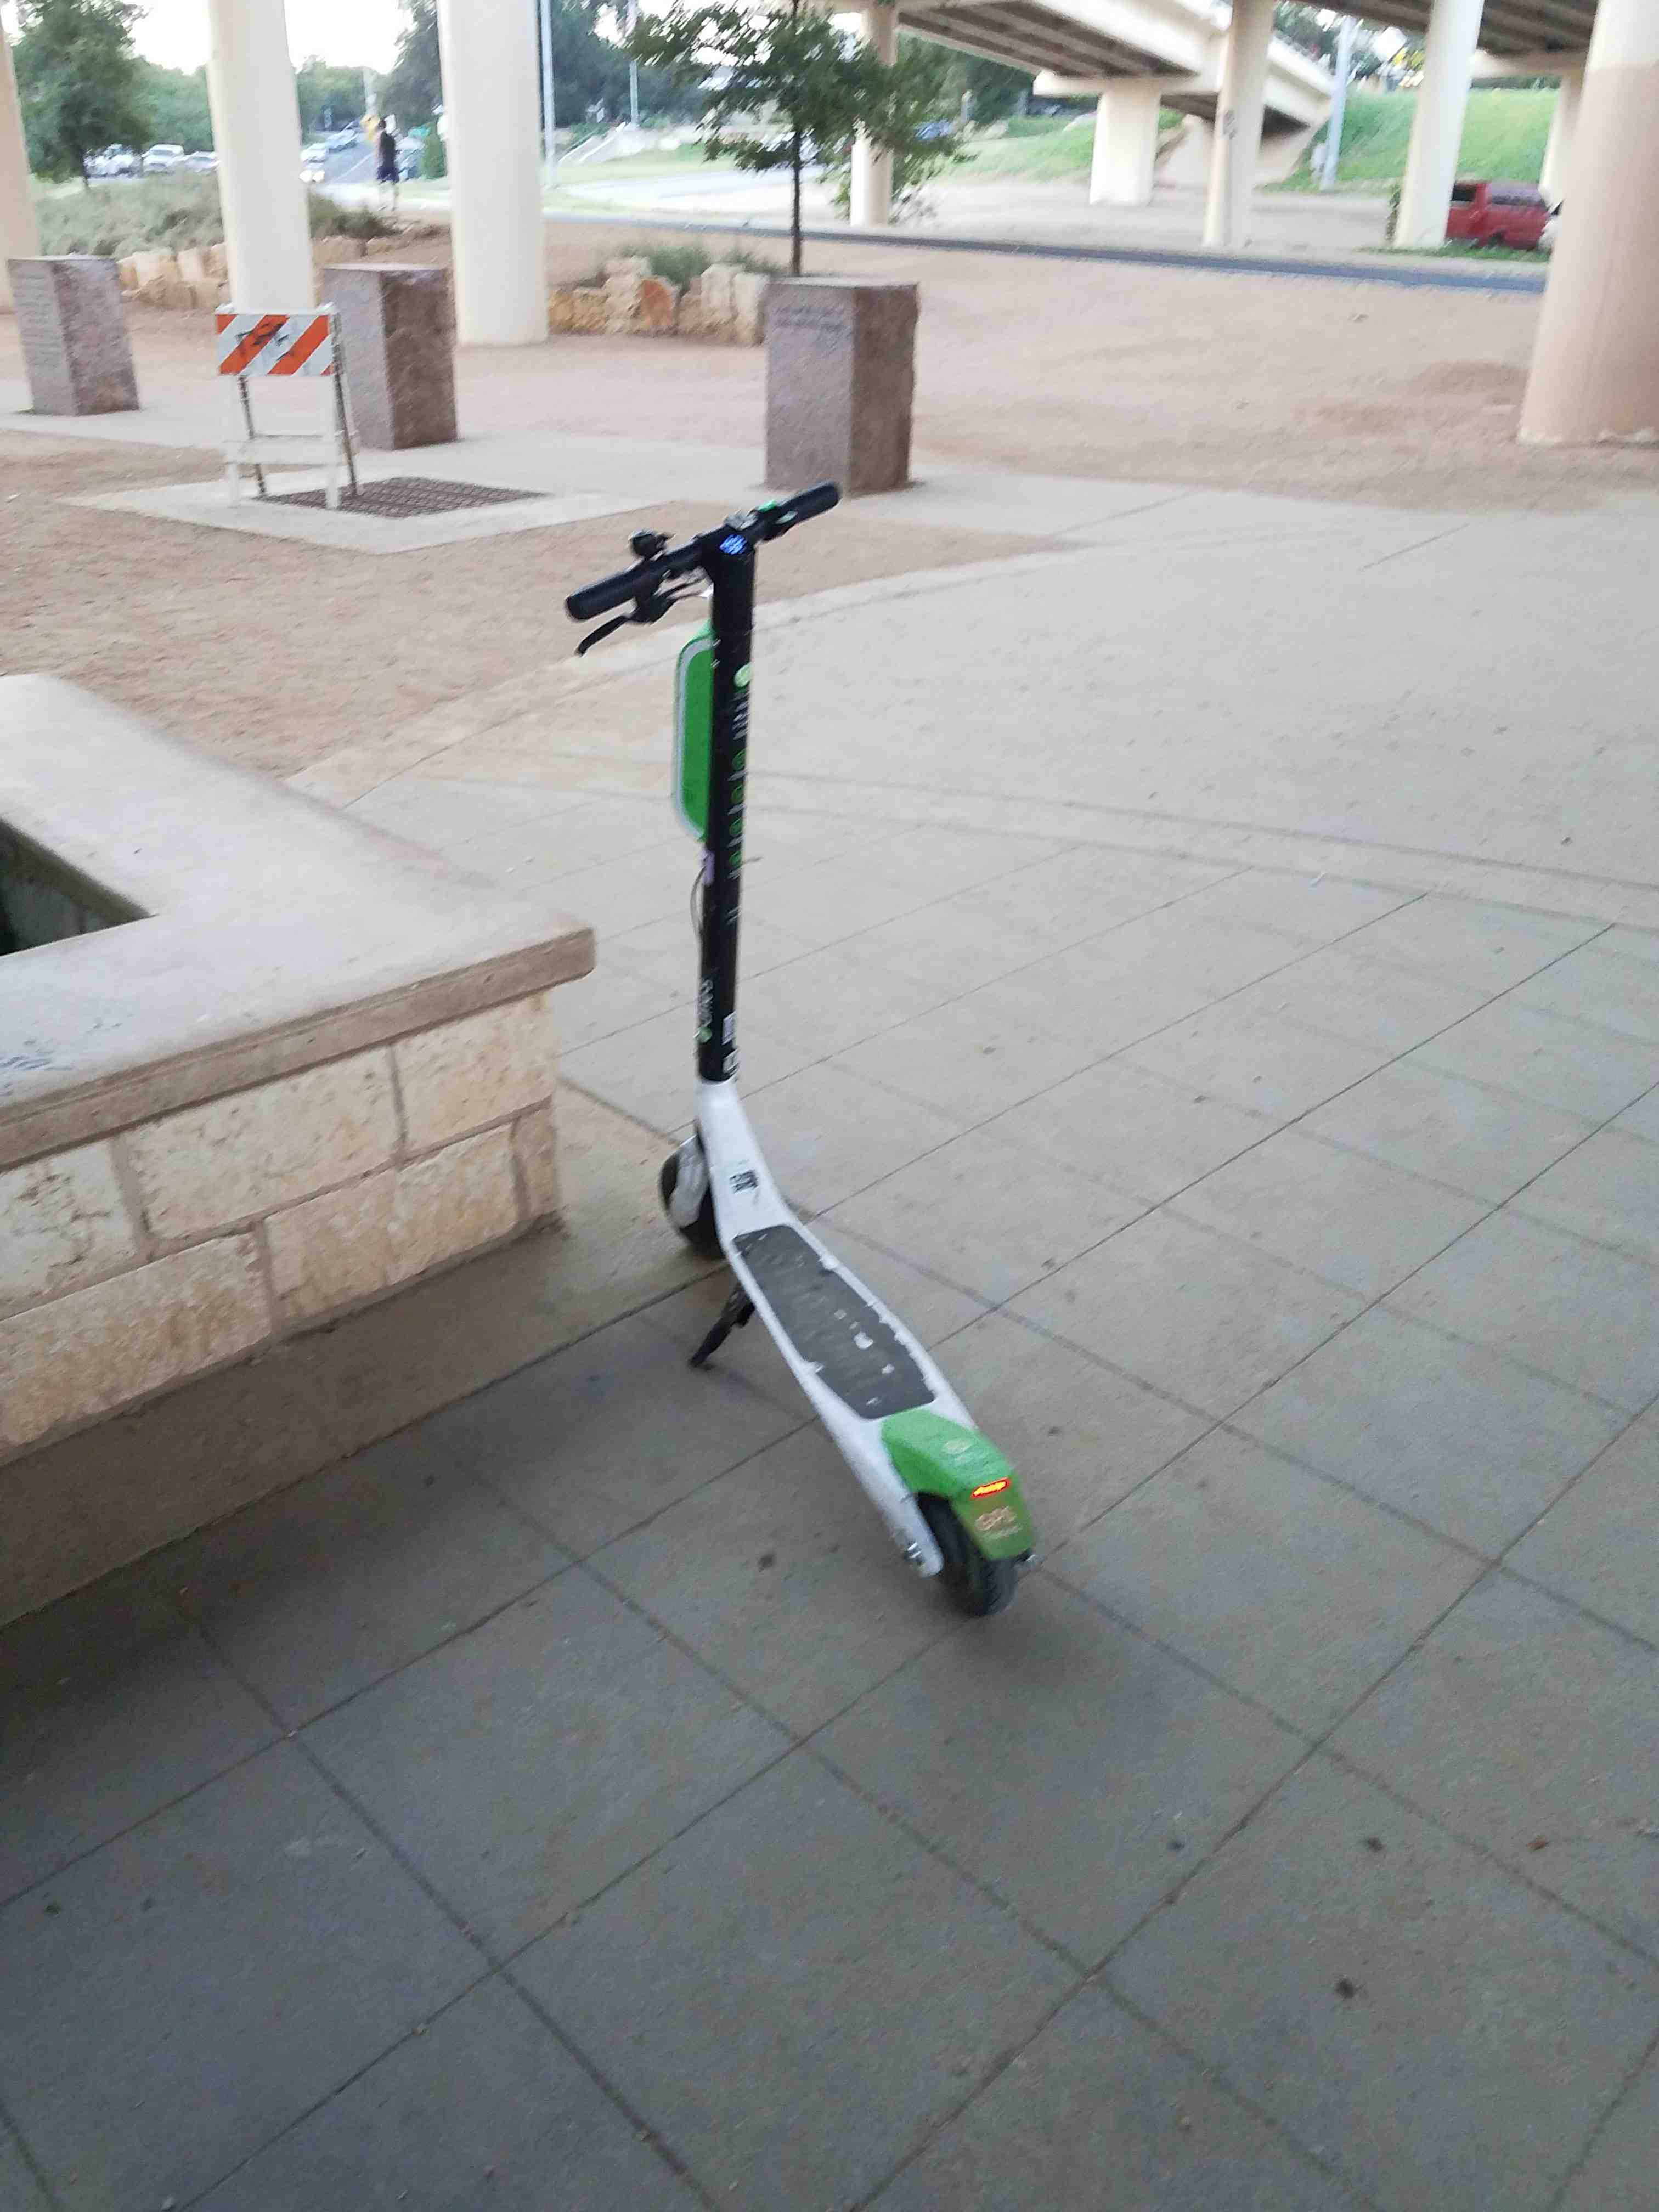scooter: (547, 453, 1098, 1669)
